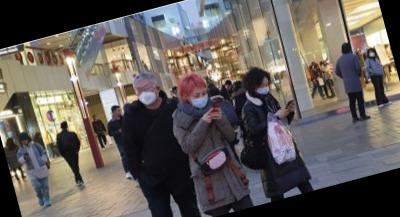with_mask: (134, 81, 161, 107), (188, 88, 212, 111), (255, 80, 272, 97), (367, 49, 376, 57), (93, 116, 97, 120)
without_mask: (113, 107, 123, 116), (224, 83, 233, 92), (20, 137, 29, 145)
